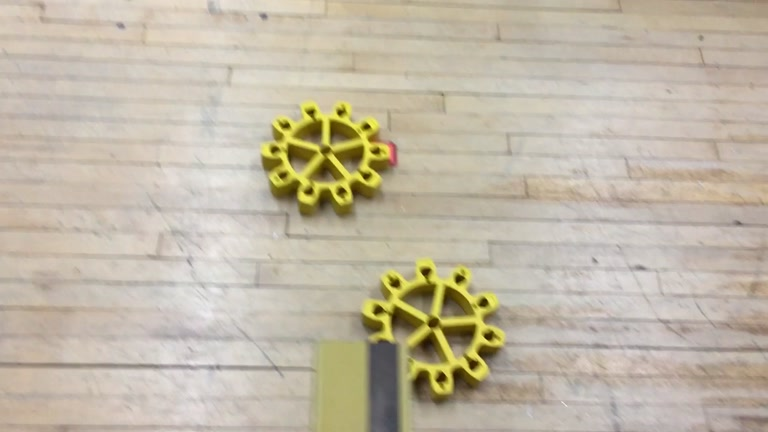gear: (360, 259, 506, 402), (259, 99, 394, 218)
